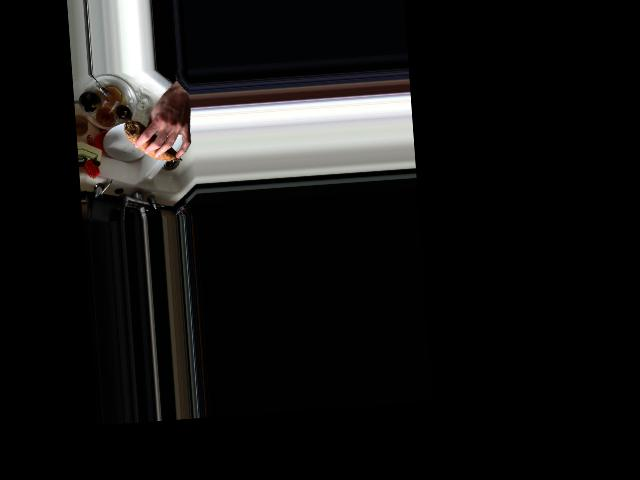sweet_potato: (125, 117, 183, 164)
